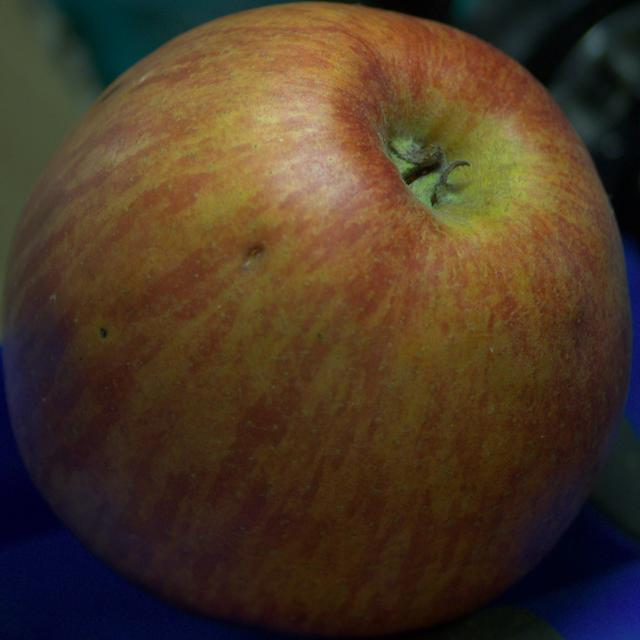apple: (2, 4, 631, 636)
pest: (99, 328, 108, 338)
scratch: (242, 246, 263, 269)
